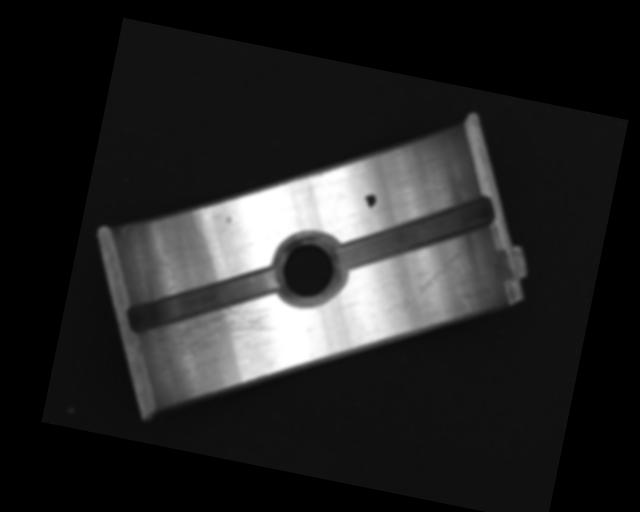blot: (361, 192, 377, 209)
bruise: (224, 215, 232, 225)
gap: (335, 169, 498, 295), (125, 241, 280, 357)
hole: (269, 228, 349, 312)
nick: (386, 237, 464, 325)
scratch: (139, 282, 292, 398)
